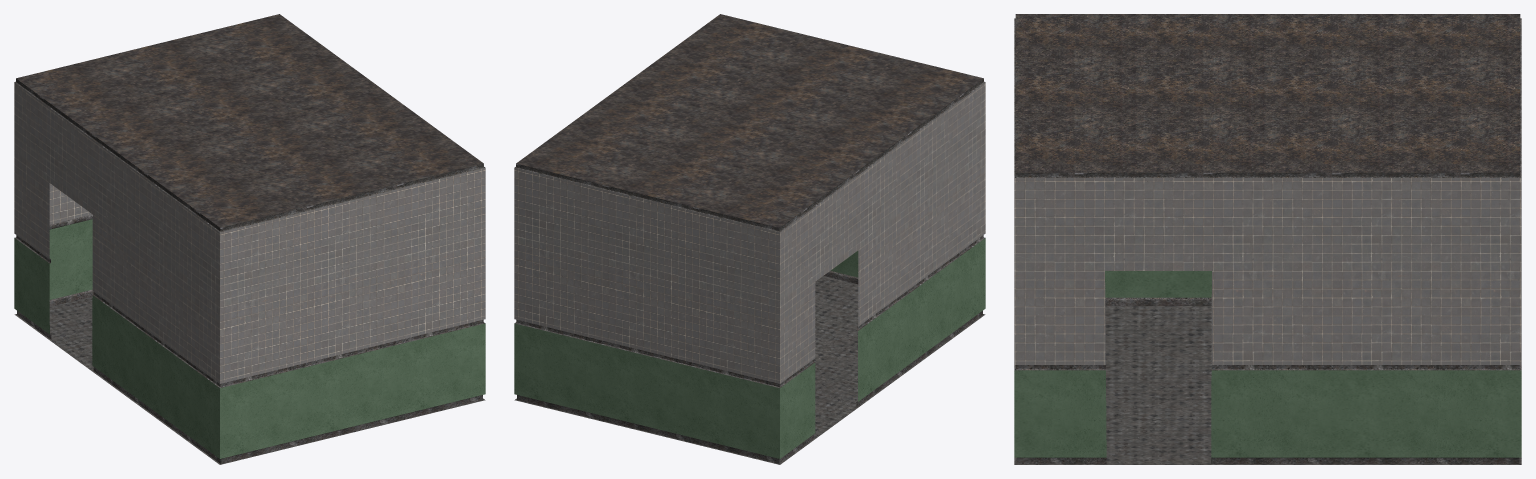
The model's file is Room_01_WithDoorway.FBX.
3 renders of one model, left to right at view 1: azimuth 30°, elevation 25°; view 2: azimuth 150°, elevation 25°; view 3: azimuth 270°, elevation 25°, orthographic. The views are drawn at different scales.
Visible parts, largest first — view 1: Room_01_WithDoorway; view 2: Room_01_WithDoorway; view 3: Room_01_WithDoorway.
Part boxes in pixels (x1=…): Room_01_WithDoorway: x1=14, y1=14, x2=485, y2=464; Room_01_WithDoorway: x1=514, y1=14, x2=985, y2=464; Room_01_WithDoorway: x1=1014, y1=14, x2=1521, y2=464.
Bounding box in the file's own units: 116 × 98.43 × 155.
